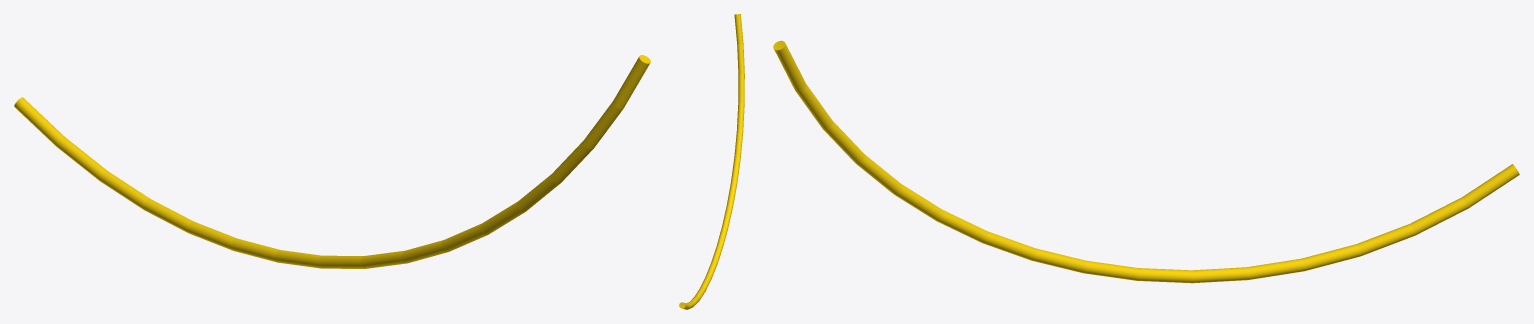
Rendered from Event_420094457_track_11.fbx.
3 renders of one model, left to right at view 1: azimuth 30°, elevation 25°; view 2: azimuth 150°, elevation 25°; view 3: azimuth 270°, elevation 25°, orthographic. The views are drawn at different scales.
Parts seen in each view (by area): view 1: Model; view 2: Model; view 3: Model.
Boxes of the visible parts, <box> form: Model: <box>14,55,650,268</box>; Model: <box>679,14,744,309</box>; Model: <box>773,40,1519,283</box>.
Size of the model in its own units: 0.954 by 1.09 by 2.3.
